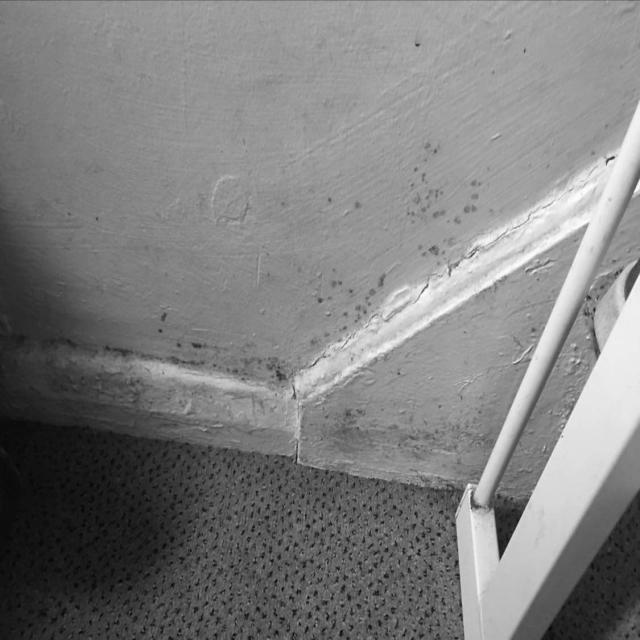stain marks: (1, 303, 304, 460), (304, 384, 489, 492), (398, 136, 504, 246), (296, 261, 406, 339), (558, 245, 628, 327), (324, 188, 391, 223)
